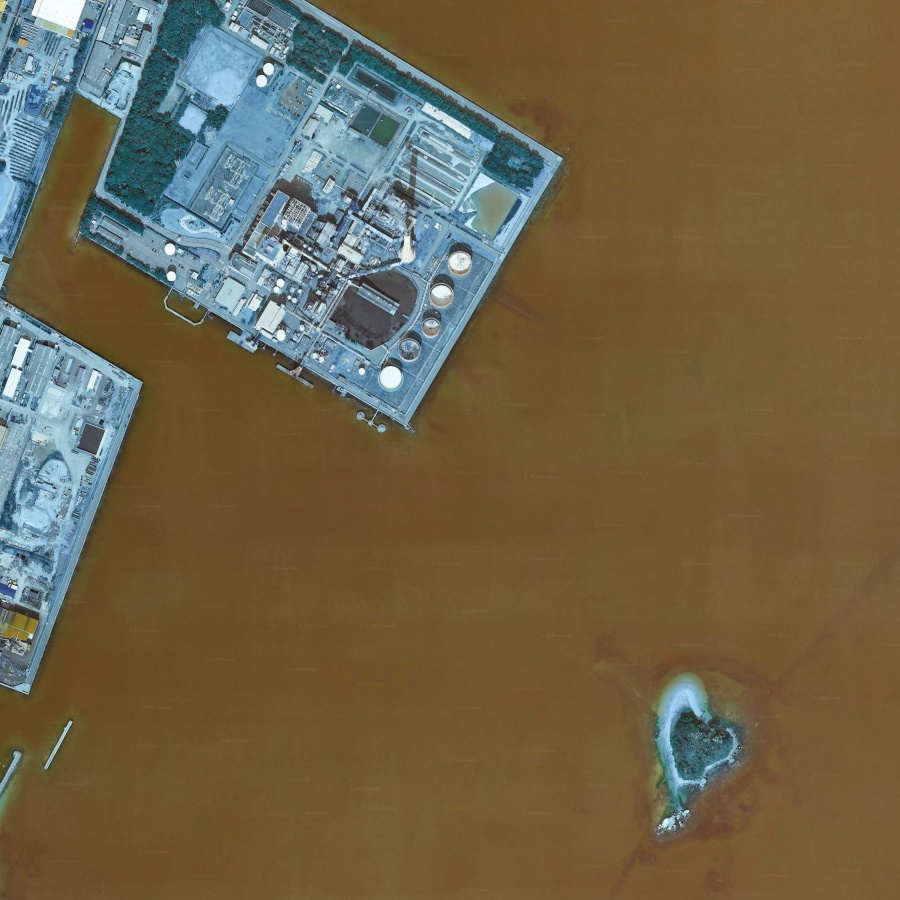PowerPlant: (158, 104, 527, 423)
